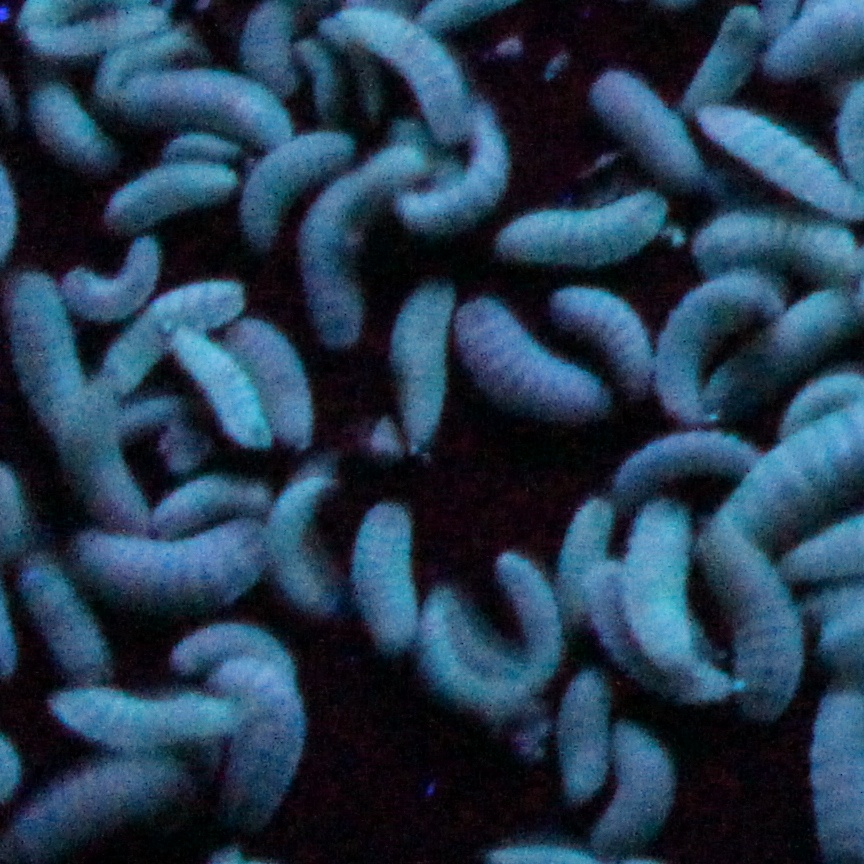larve: (305, 150, 432, 346), (316, 7, 467, 143), (457, 289, 611, 416), (652, 277, 778, 429), (700, 524, 794, 717), (585, 572, 728, 697), (389, 115, 510, 237), (81, 532, 266, 607), (591, 60, 702, 185), (102, 286, 237, 384), (208, 654, 303, 792), (164, 324, 267, 450), (428, 591, 525, 723), (114, 74, 298, 143), (626, 499, 700, 666), (62, 384, 147, 529), (495, 191, 665, 263), (13, 267, 81, 443), (390, 278, 457, 452), (247, 129, 347, 242), (685, 215, 862, 272), (590, 722, 672, 845), (552, 290, 648, 393), (54, 691, 240, 744), (14, 765, 182, 821), (233, 319, 309, 442), (21, 565, 103, 677), (356, 503, 418, 646), (501, 546, 559, 698), (683, 3, 760, 108), (63, 237, 156, 322), (109, 168, 240, 226), (275, 470, 327, 608), (20, 6, 164, 54), (557, 500, 609, 621), (39, 78, 110, 163), (171, 631, 298, 677), (152, 478, 265, 529), (563, 668, 605, 800), (244, 5, 304, 93), (111, 400, 193, 432), (304, 30, 335, 114), (156, 130, 235, 155)
